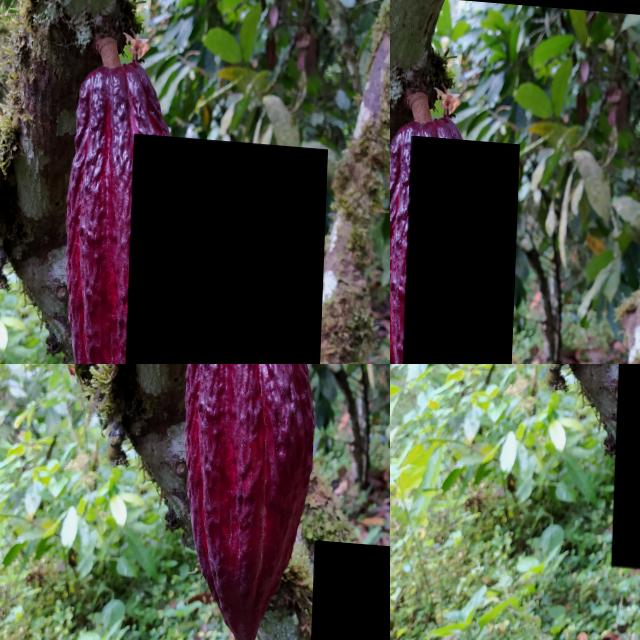Monilia: (311, 533, 390, 640)
Sana: (122, 127, 329, 364), (401, 130, 520, 364)
